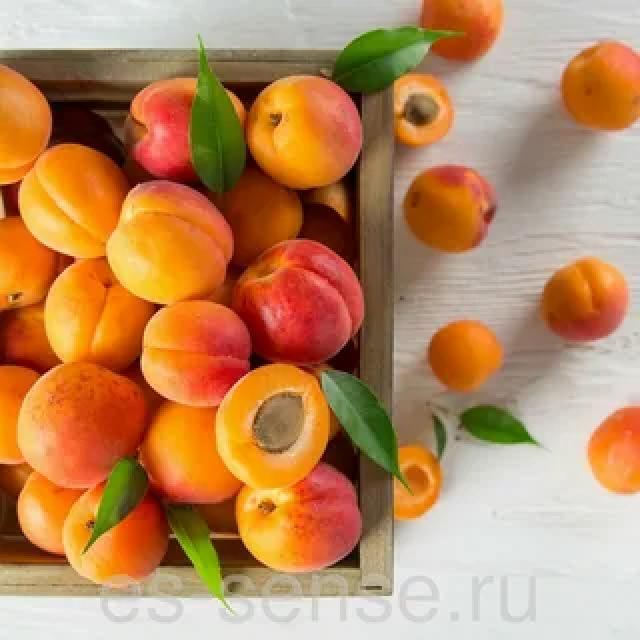Cekirdek: (252, 392, 302, 450)
Kayisi: (232, 240, 362, 362), (216, 364, 330, 486)
Yaprak: (322, 370, 406, 484)
